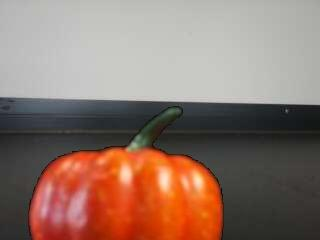Pumpkin: (23, 103, 232, 240)
